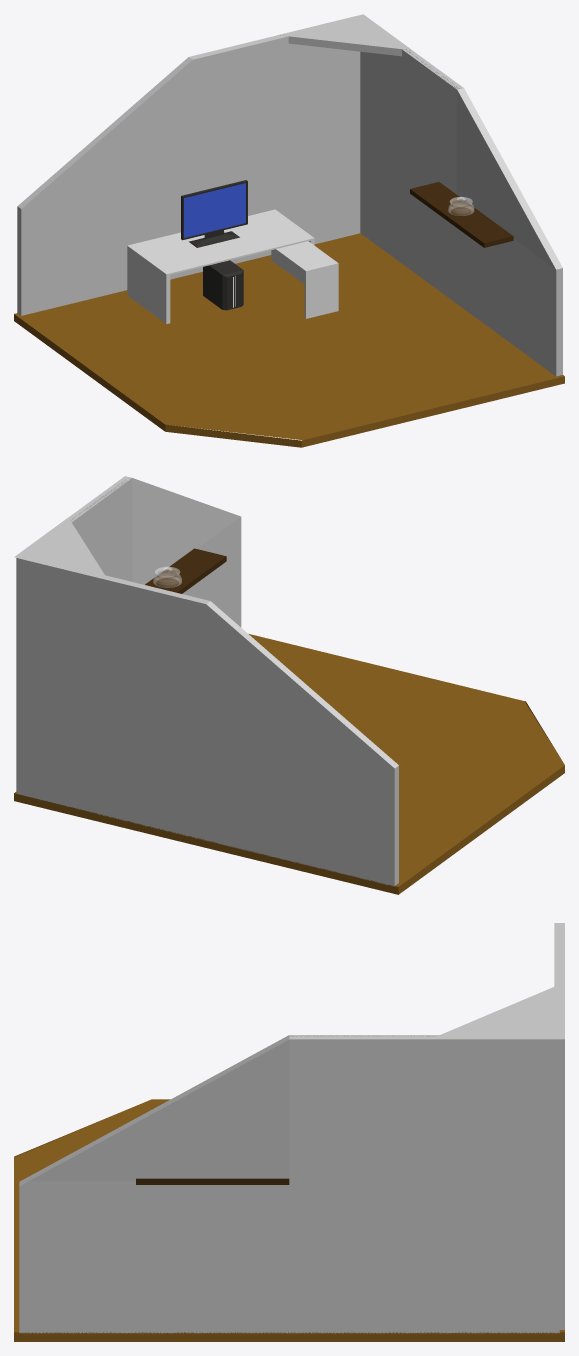
File: room2.glb
The picture shows the model from 3 angles, top to bottom: view 1: azimuth 30°, elevation 25°; view 2: azimuth 150°, elevation 25°; view 3: azimuth 270°, elevation 25°; orthographic projection. The views are drawn at different scales.
Visible parts, largest first — view 1: Cube.004, Floor.001, Floor.002, Cube, Cube.001, Floor.003, Cube.002, Cube.003, PC; view 2: Floor.001, Cube.004, Floor.002, Floor.003, Cube.003, Cylinder; view 3: Floor.002, Cube.004, Floor.003, Floor.001, Cube.003.
Boxes of the visible parts, bbox=[...] form: Cube.004: bbox=[14, 233, 564, 447]; Floor.001: bbox=[17, 35, 360, 315]; Floor.002: bbox=[360, 49, 562, 376]; Cube: bbox=[127, 209, 314, 323]; Cube.001: bbox=[181, 180, 247, 247]; Floor.003: bbox=[278, 14, 412, 56]; Cube.002: bbox=[274, 241, 338, 318]; Cube.003: bbox=[410, 182, 513, 247]; PC: bbox=[203, 260, 243, 310]; Floor.001: bbox=[17, 558, 398, 886]; Cube.004: bbox=[14, 634, 564, 894]; Floor.002: bbox=[16, 476, 241, 791]; Floor.003: bbox=[14, 517, 107, 579]; Cube.003: bbox=[145, 548, 226, 593]; Cylinder: bbox=[153, 566, 181, 587]; Floor.002: bbox=[19, 1035, 559, 1333]; Cube.004: bbox=[14, 1099, 564, 1341]; Floor.003: bbox=[430, 982, 564, 1039]; Floor.001: bbox=[554, 923, 564, 1329]; Cube.003: bbox=[136, 1178, 289, 1184].
Size of the model in its own units: 10.2 by 6.18 by 10.2.
